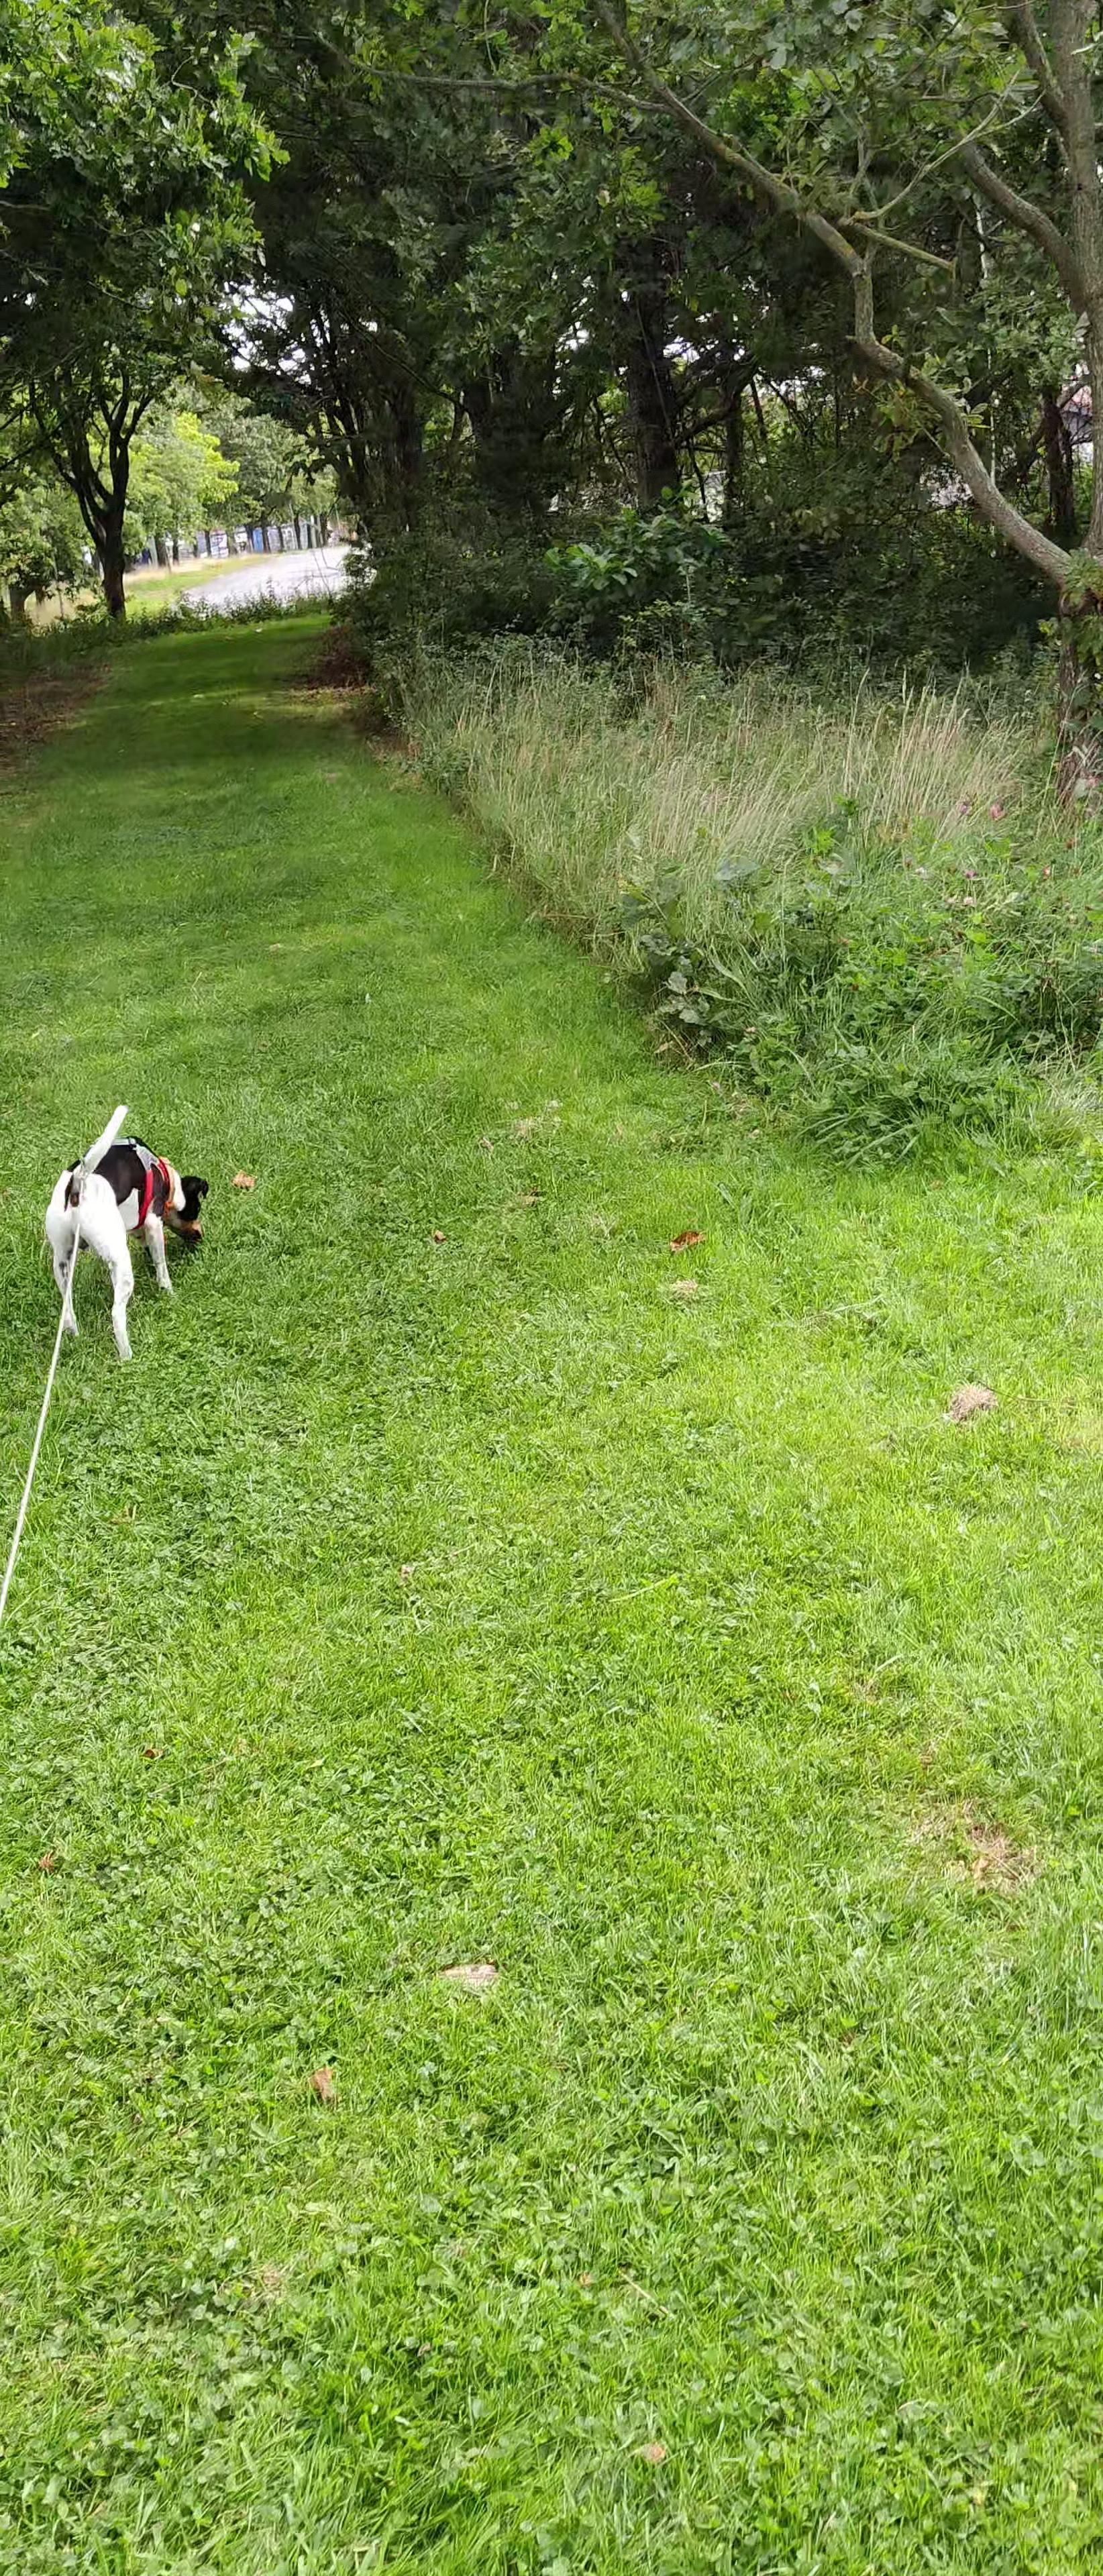Dog: (35, 1097, 215, 1367)
